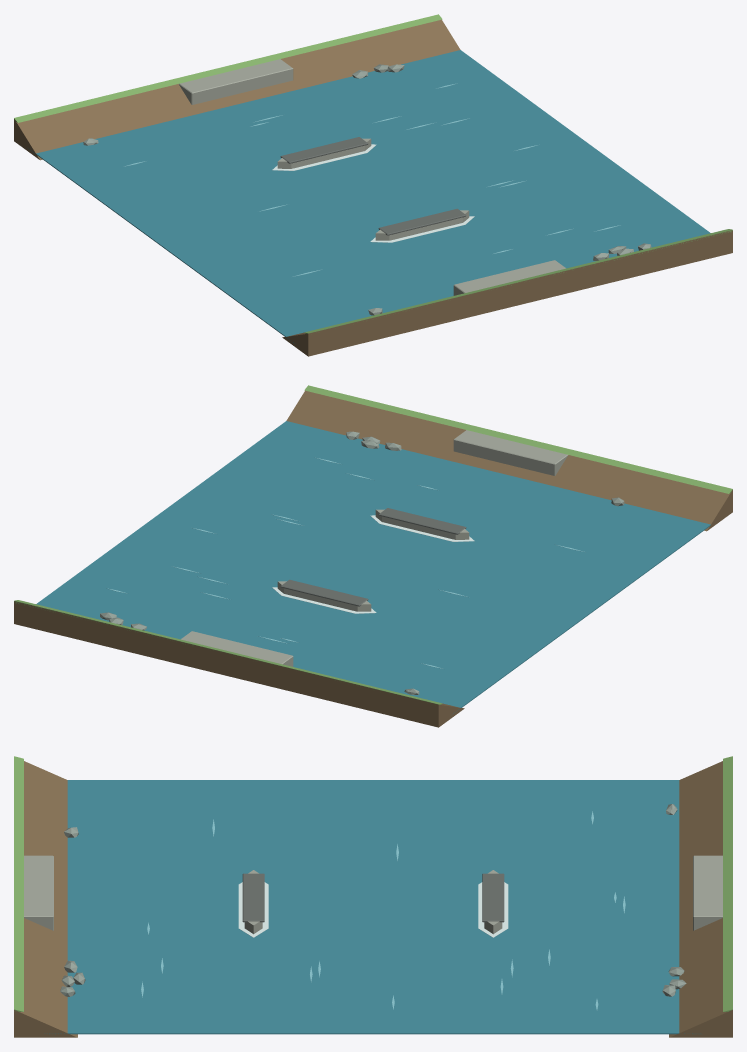
Rendered from sm_env_route_bridge_water.glb.
The picture shows the model from 3 angles, top to bottom: view 1: azimuth 30°, elevation 25°; view 2: azimuth 150°, elevation 25°; view 3: azimuth 270°, elevation 25°; orthographic projection. The views are drawn at different scales.
Parts seen in each view (by area): view 1: Water, Bank.001, Bank, BankGrass.001, Abutment.001, BankGrass, Abutment, PierCap.001, PierCap; view 2: Water, Bank, Bank.001, BankGrass, Abutment, BankGrass.001, Abutment.001, PierCap, PierCap.001; view 3: Water, Bank.001, Bank, BankGrass, BankGrass.001, Abutment, Abutment.001, PierCap, PierCap.001, Foam, Foam.001.
Part boxes in pixels (<box>): Water: <box>28,50,710,343</box>; Bank.001: <box>14,19,460,160</box>; Bank: <box>282,230,732,356</box>; BankGrass.001: <box>14,14,442,122</box>; Abutment.001: <box>179,59,293,104</box>; BankGrass: <box>304,229,732,333</box>; Abutment: <box>453,260,565,295</box>; PierCap.001: <box>280,137,368,163</box>; PierCap: <box>378,208,466,235</box>; Water: <box>36,421,710,713</box>; Bank: <box>286,390,732,531</box>; Bank.001: <box>14,601,464,727</box>; BankGrass: <box>304,385,732,493</box>; Abutment: <box>453,430,567,475</box>; BankGrass.001: <box>14,600,442,704</box>; Abutment.001: <box>181,631,293,666</box>; PierCap: <box>378,508,466,534</box>; PierCap.001: <box>280,579,368,606</box>; Water: <box>44,780,700,1034</box>; Bank.001: <box>669,761,732,1037</box>; Bank: <box>14,761,77,1037</box>; BankGrass: <box>14,756,23,1011</box>; BankGrass.001: <box>723,756,732,1011</box>; Abutment: <box>24,855,53,930</box>; Abutment.001: <box>693,855,722,930</box>; PierCap: <box>242,873,264,922</box>; PierCap.001: <box>482,873,504,922</box>; Foam: <box>238,882,268,937</box>; Foam.001: <box>478,882,508,937</box>.
Bounding box in the file's own units: 30 × 1.72 × 36.
